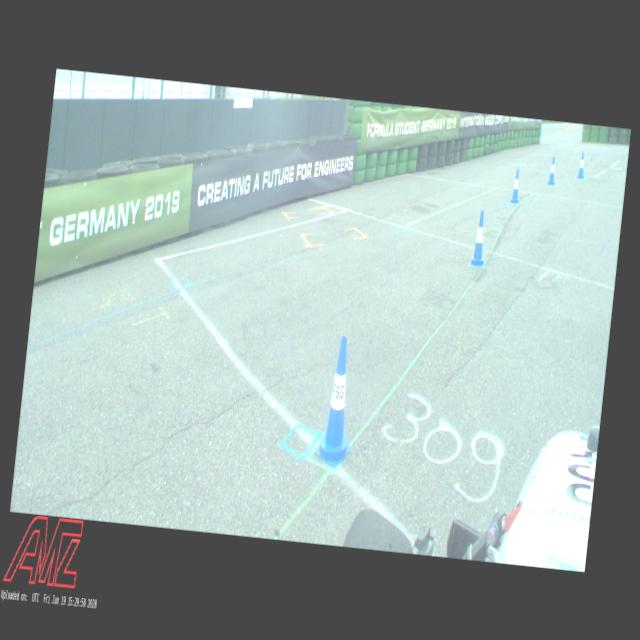blue_cone: (312, 334, 362, 468), (468, 210, 490, 266), (509, 168, 522, 203), (547, 156, 557, 184), (576, 152, 586, 178)
